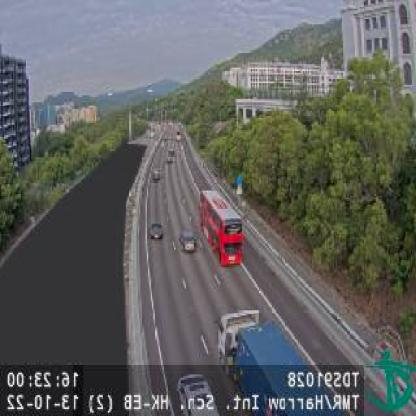Bus: (200, 191, 243, 268)
Car: (174, 372, 218, 416), (180, 229, 195, 251), (149, 222, 162, 241), (151, 168, 161, 179)
Truck: (216, 308, 342, 416)
